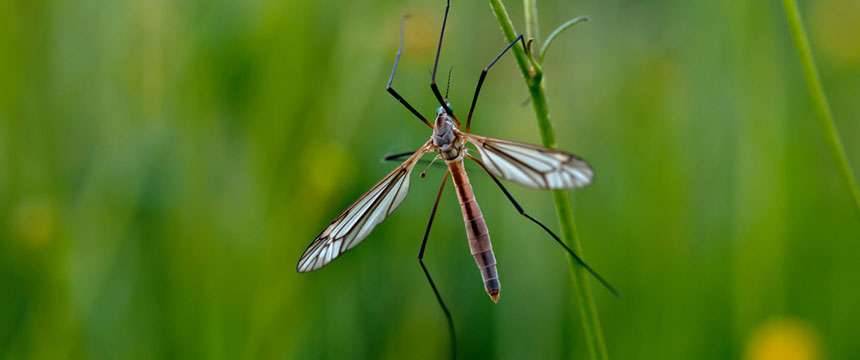insect: (294, 3, 626, 360)
